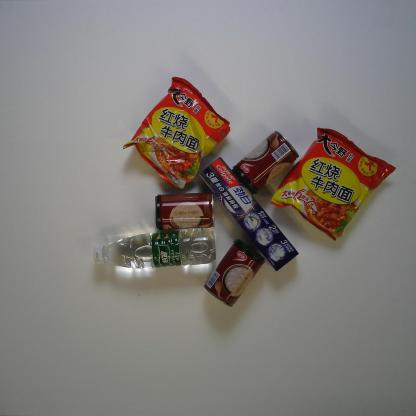Canned Food: (201, 237, 267, 309), (232, 132, 301, 194), (154, 191, 216, 232)
Drink: (89, 227, 217, 271)
Instant Noodles: (268, 124, 398, 242), (122, 75, 232, 190)
Personal Hygiene: (198, 154, 300, 273)
